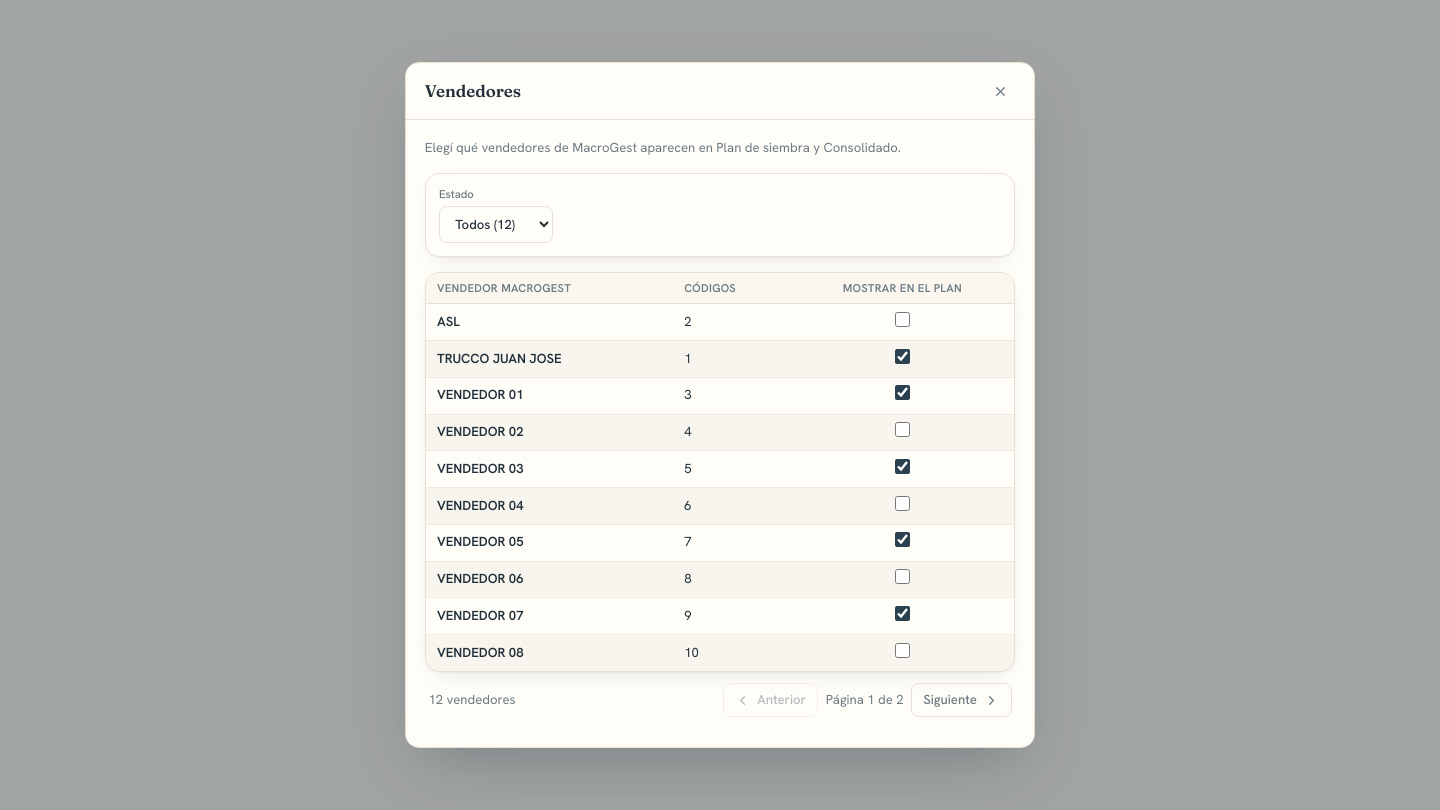
diálogo de vendedores › el filtro deja sólo los seleccionados y vuelve a la primera página
Expected: the text "Página 1 de 2" is shown, [826,691,904,709]
Click the button "Siguiente" at (961,700), box [911,683,1012,717]
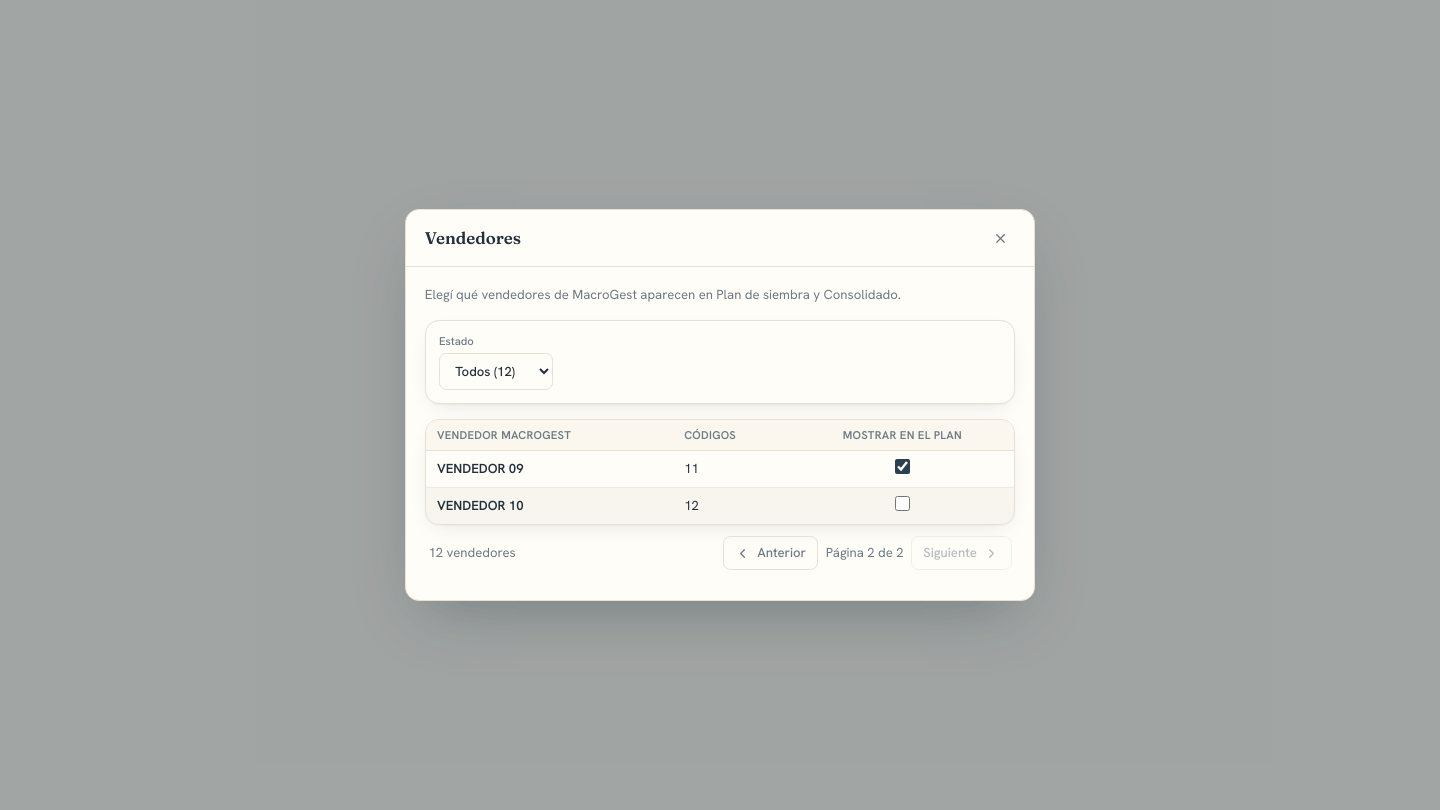
Expected: the text "Página 2 de 2" is shown, [826,544,904,562]
Select "Activos (6)" in the dropdown labelled "Estado" at (496,372), box [439,353,553,390]
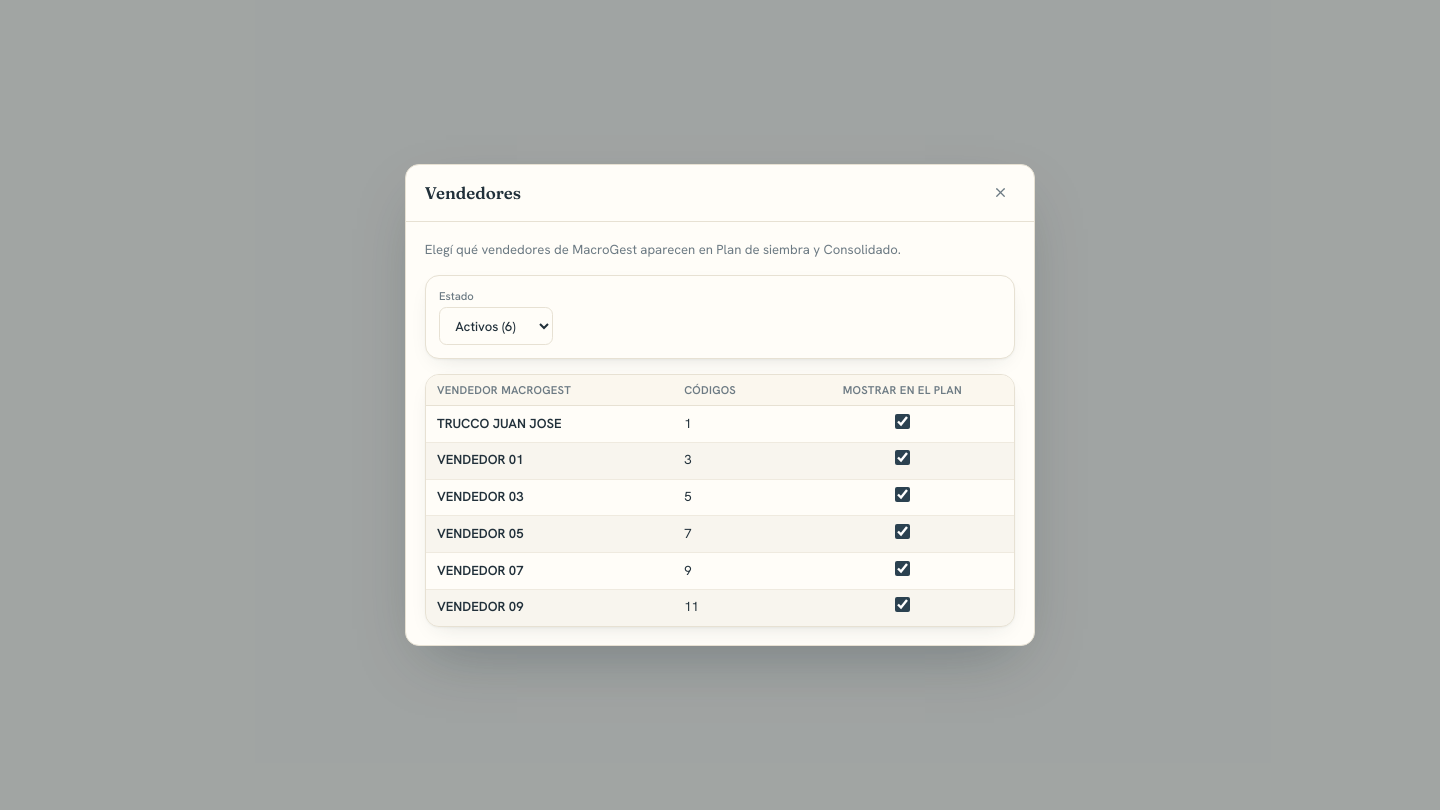
Expected: the text "Página 2" is gone
Expected: the checkbox named "Mostrar TRUCCO JUAN JOSE" is checked, [895,414,910,428]
Select "Inactivos (6)" in the dropdown labelled "Estado" at (496,326), box [439,307,553,345]
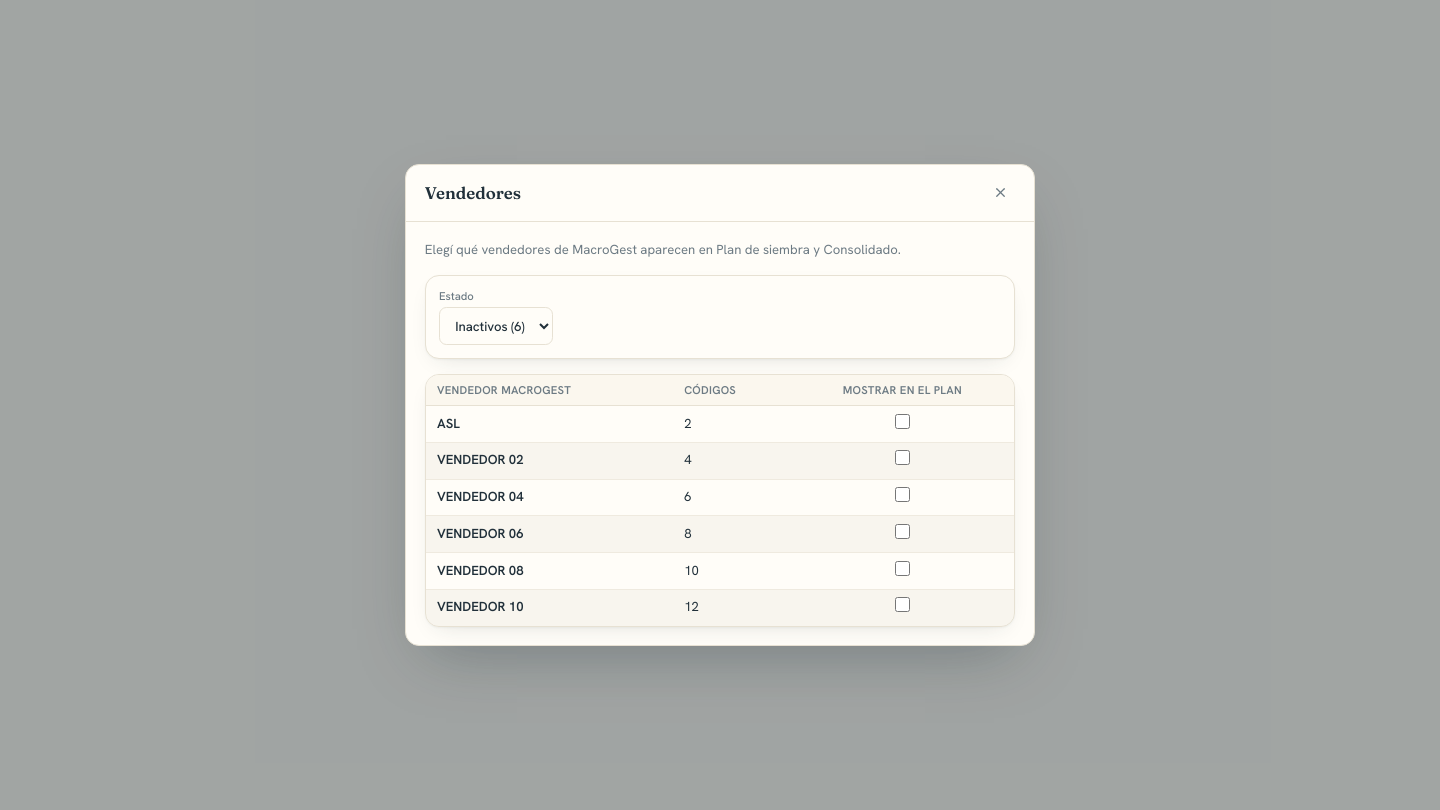
Expected: the checkbox named "Mostrar ASL" is not checked, [895,414,910,428]
